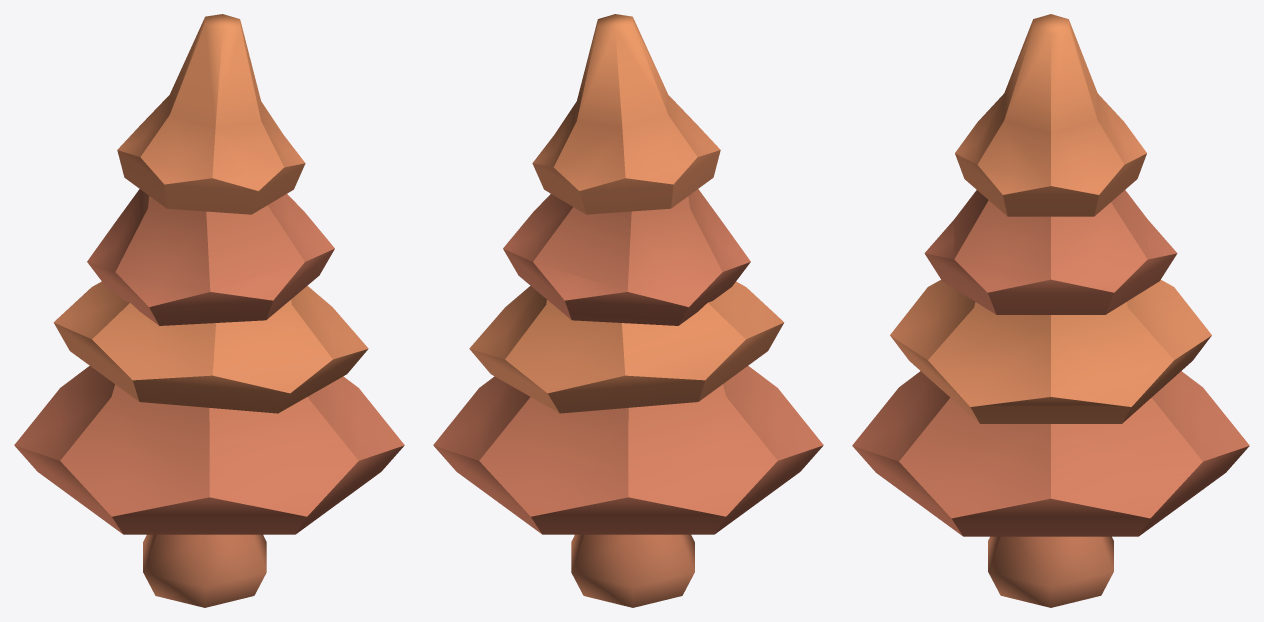
File: pine-fall-crooked.002_lev1.glb
The picture shows the model from 3 angles, left to right: view 1: azimuth 30°, elevation 25°; view 2: azimuth 150°, elevation 25°; view 3: azimuth 270°, elevation 25°; orthographic projection.
Visible parts, largest first — view 1: pine-fall-crooked.002_lev1; view 2: pine-fall-crooked.002_lev1; view 3: pine-fall-crooked.002_lev1.
Boxes of the visible parts, <box> form: pine-fall-crooked.002_lev1: <box>14,14,404,607</box>; pine-fall-crooked.002_lev1: <box>433,14,823,607</box>; pine-fall-crooked.002_lev1: <box>852,14,1249,607</box>.
Size of the model in its own units: 10.6 by 18.97 by 12.01.
Materials: 1 (1 with a texture image).
